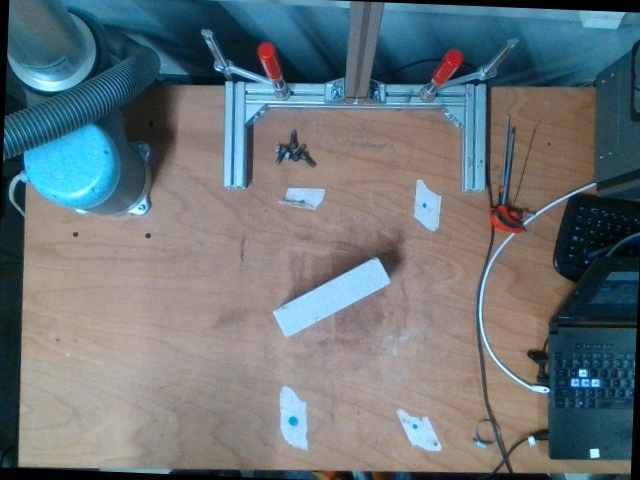brick-side: (270, 255, 391, 339)
